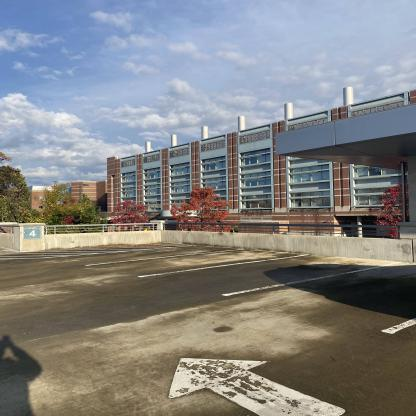EB-1: (110, 97, 416, 236)
